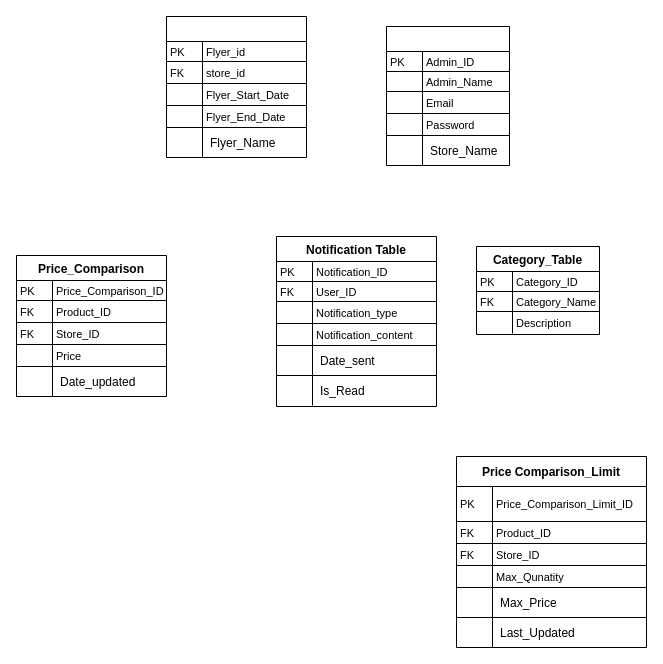
Some shapes in this 663 by 664 pixel diagram are drawn without their labels. Each missing label, with the box of its shape:
Admin Table: (386, 26, 510, 166)
Flyer Table: (166, 16, 306, 158)
